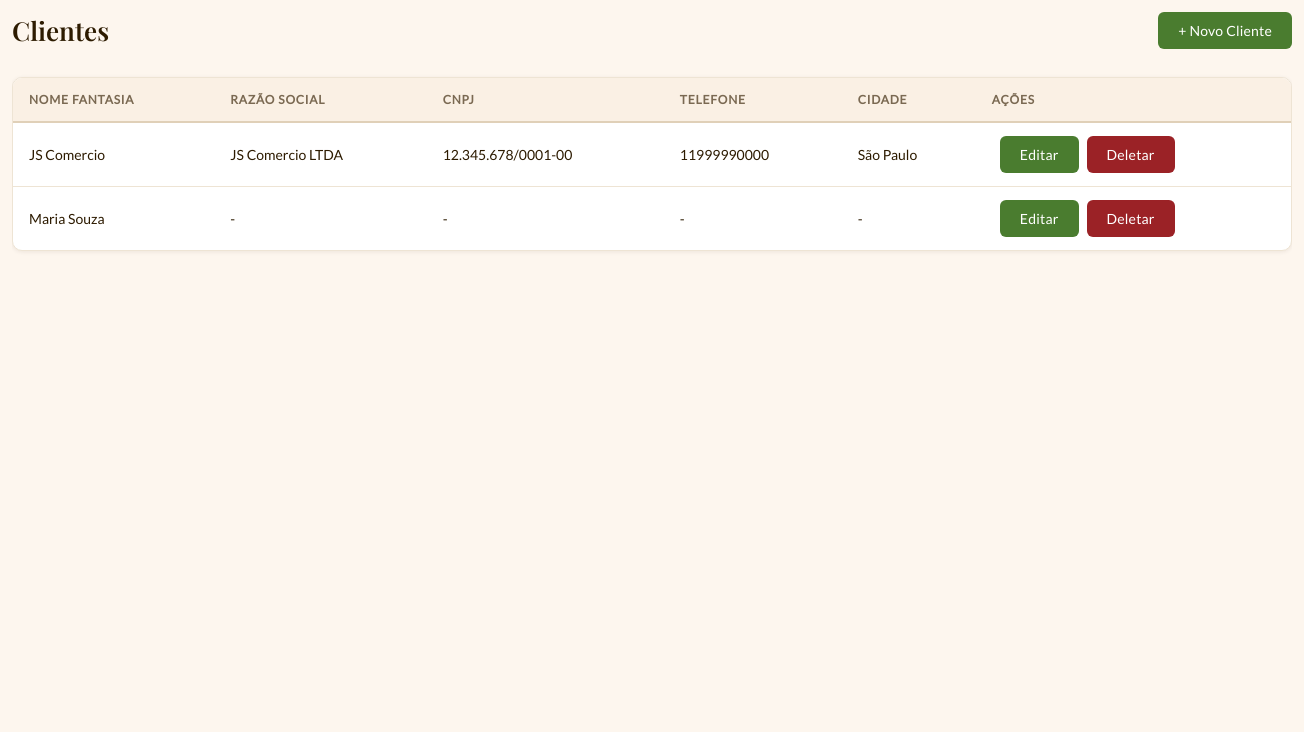
it: Clientes › lida com erro ao deletar cliente
Check: the text "JS Comercio" is shown, box [13,122,214,186]
Click the button "Deletar" in the row of "JS Comercio LTDA" at (1131, 154), box [1086,136,1175,173]
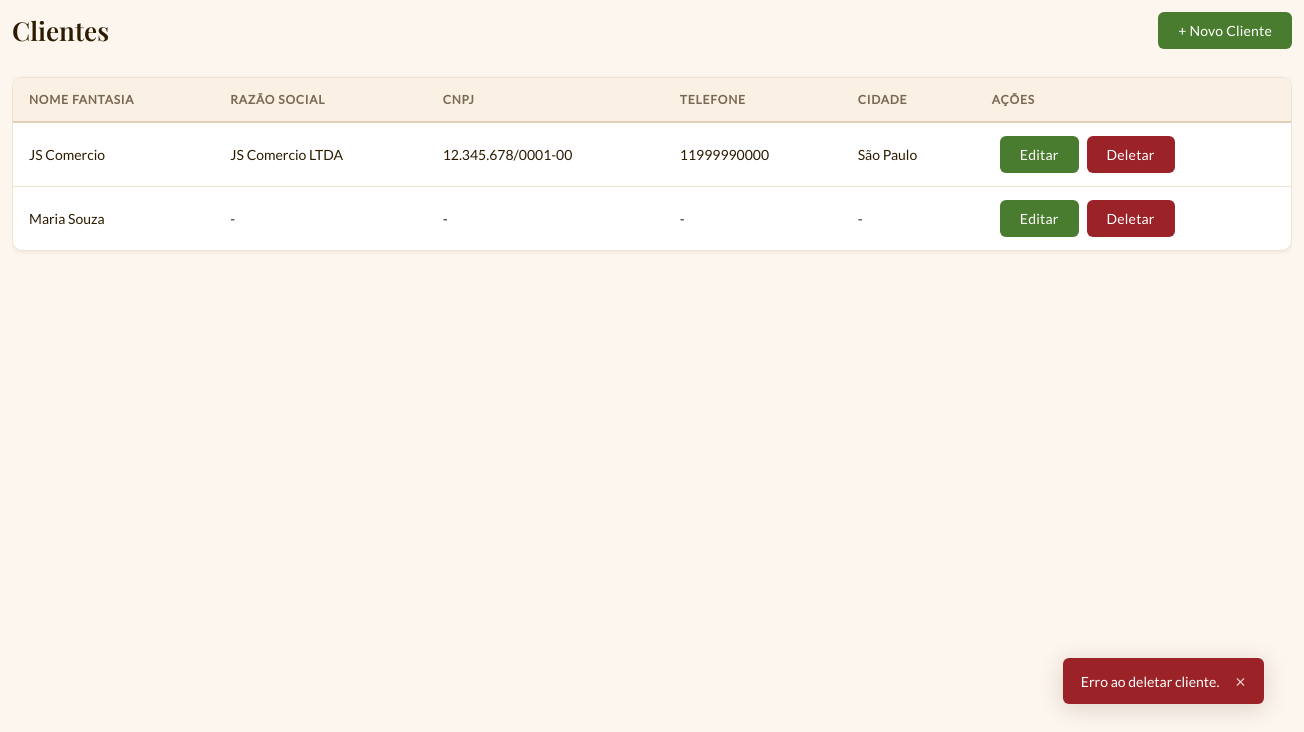
Check: the text "Erro ao deletar cliente." is shown, box [1081,672,1219,690]
